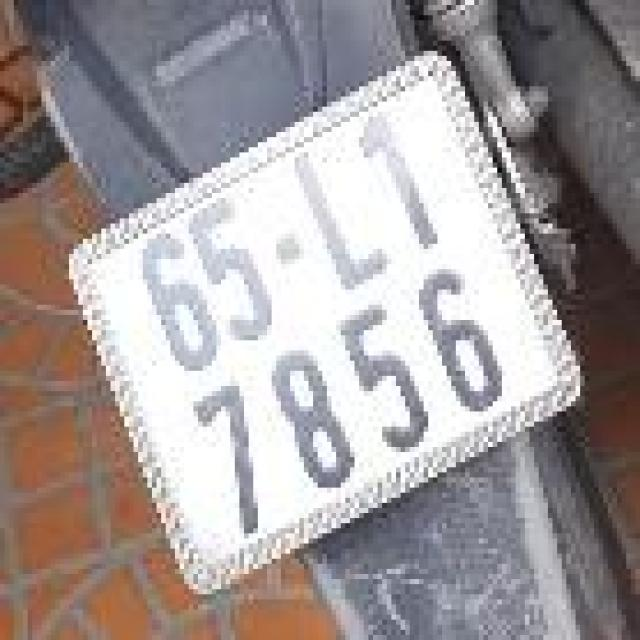1: (336, 96, 452, 272)
5: (325, 294, 449, 464), (180, 185, 293, 359)
6: (402, 254, 517, 426), (124, 218, 232, 386)
7: (181, 366, 283, 546)
8: (257, 334, 365, 499)
L: (278, 127, 398, 301)
